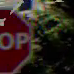Stop: (1, 5, 34, 73)
